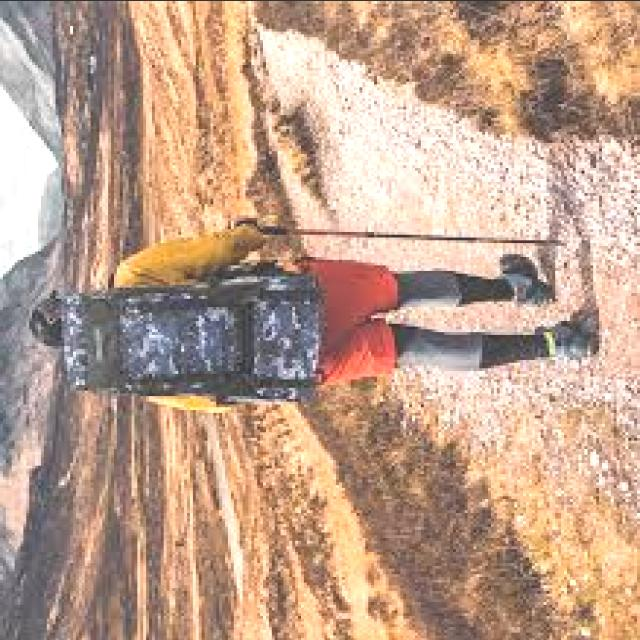backpack: (57, 271, 323, 410)
